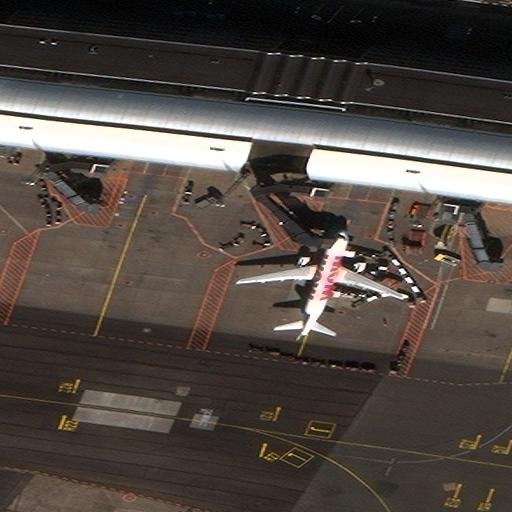Medium Civil Transport: (240, 228, 406, 336)
